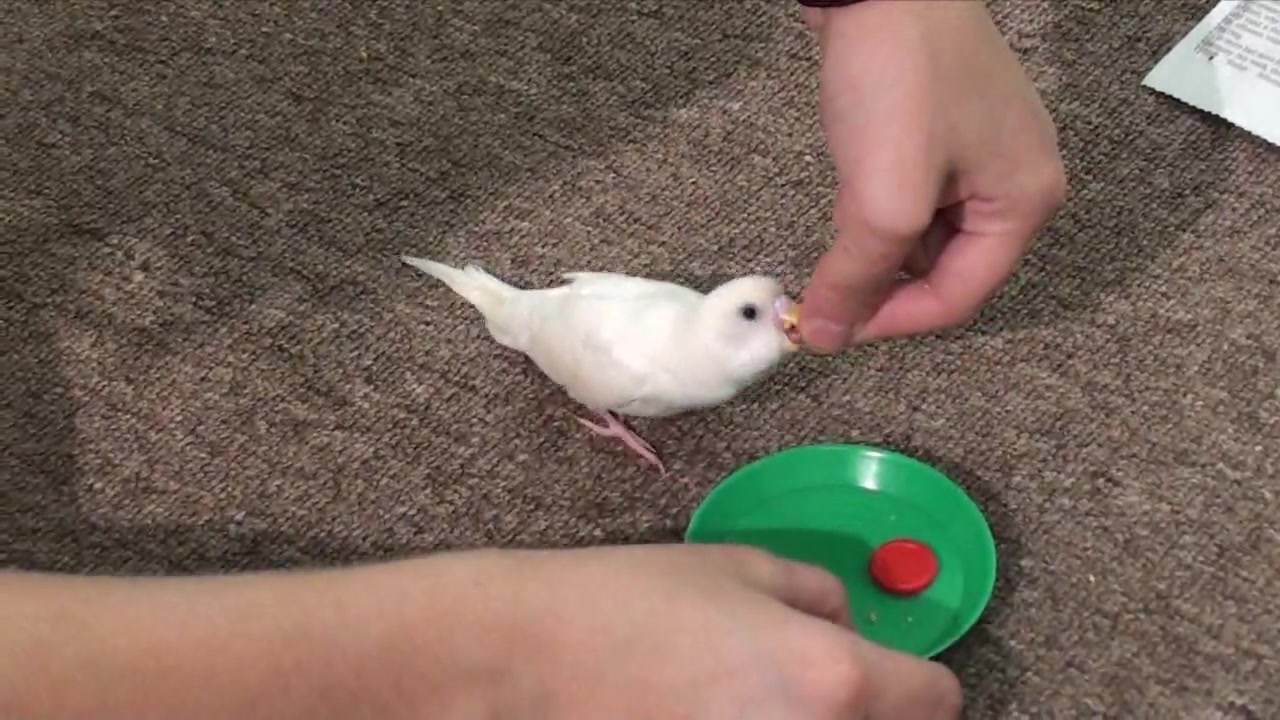bird: (396, 254, 803, 474)
